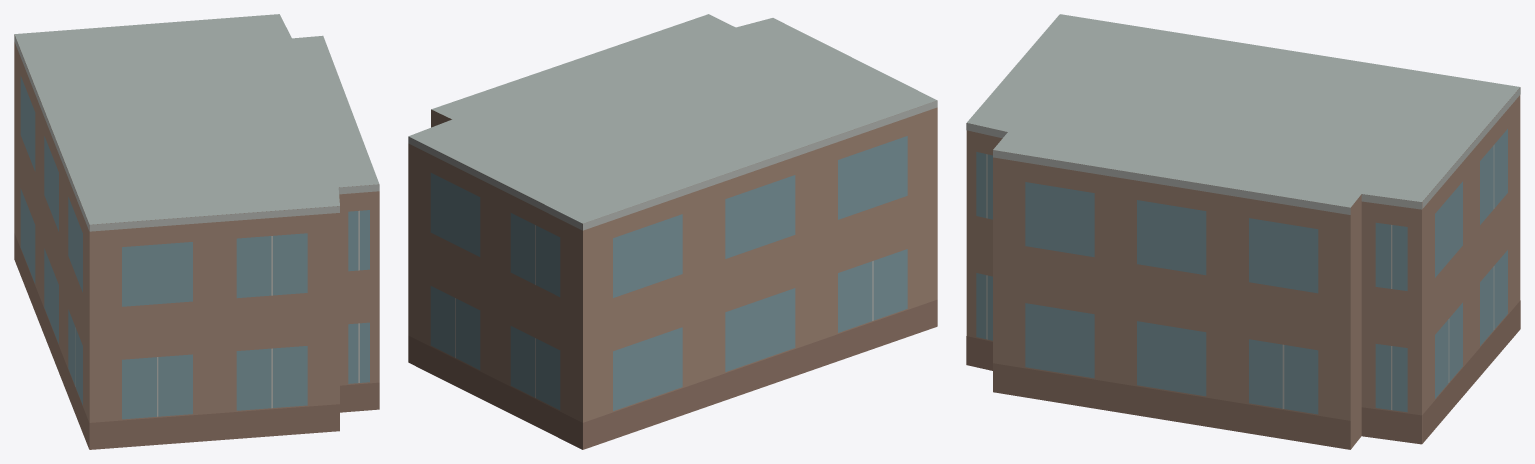
Rendered from survey-upis-32880554.glb.
3 renders of one model, left to right at view 1: azimuth 30°, elevation 25°; view 2: azimuth 150°, elevation 25°; view 3: azimuth 270°, elevation 25°, orthographic. The views are drawn at different scales.
Parts seen in each view (by area): view 1: survey-upis-32880554.tmp; view 2: survey-upis-32880554.tmp; view 3: survey-upis-32880554.tmp.
Boxes of the visible parts, bbox=[...] form: survey-upis-32880554.tmp: bbox=[14, 14, 379, 449]; survey-upis-32880554.tmp: bbox=[408, 14, 937, 449]; survey-upis-32880554.tmp: bbox=[966, 14, 1520, 449].
Bounding box in the file's own units: 13.56 × 7.9 × 16.38.
